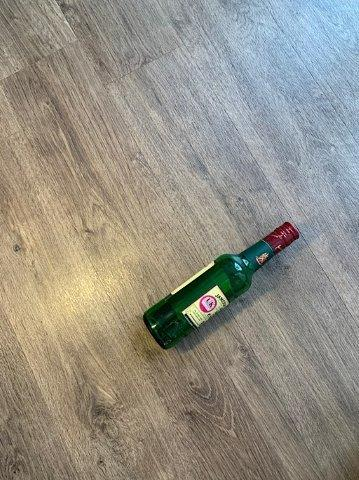botolkaca: (145, 223, 299, 348)
